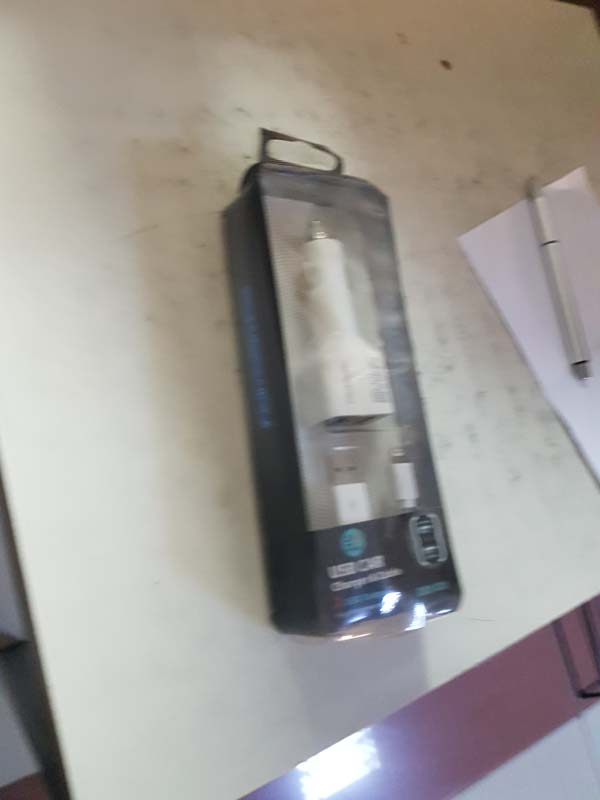usbcarcharger: (220, 118, 465, 644)
